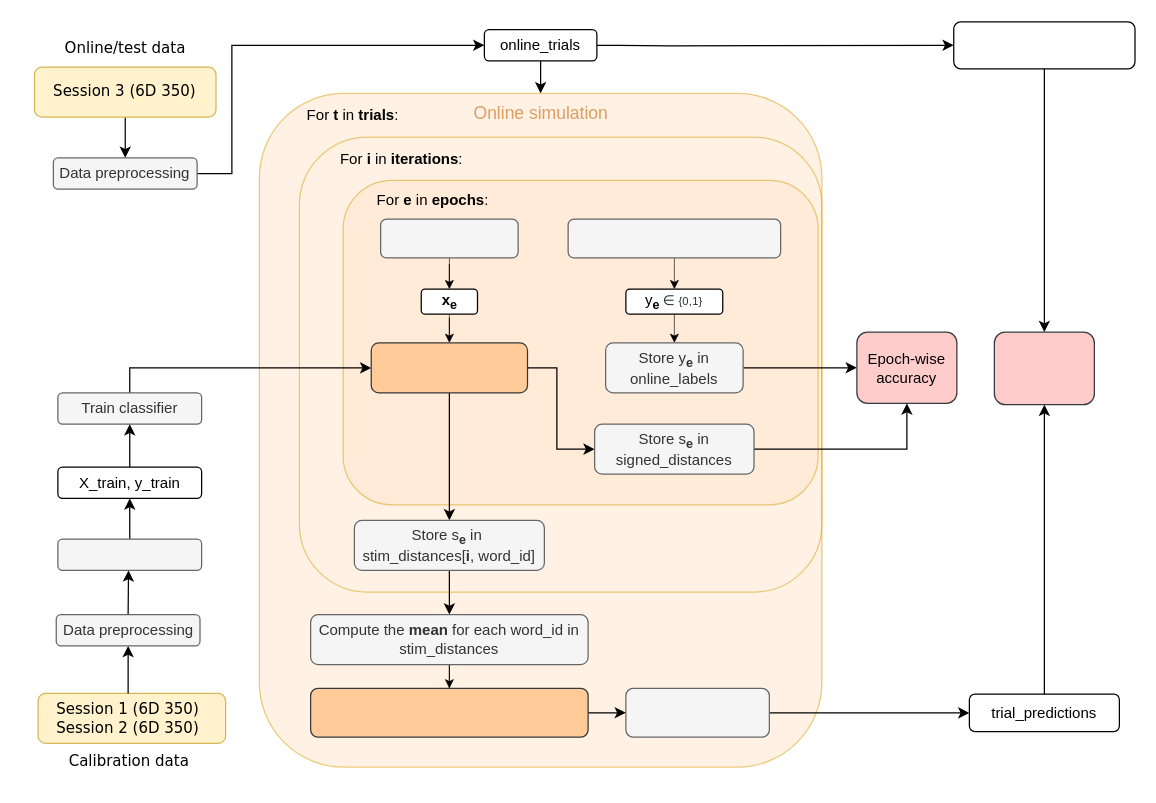
This 1156x803 diagram has some shape labels left out. Here are the shapes that lost their labels. From the top down, the box of each, then its label:
(952, 21, 1135, 69): online_trial_targets (true target word per trial)
(379, 218, 518, 258): Extract features
(567, 218, 781, 258): Obtain true label from markers
(370, 342, 528, 393): Compute s e : distance to decision boundary
(993, 331, 1094, 405): Trial-wise accuracy
(57, 538, 202, 570): Feature extraction
(309, 687, 588, 737): Select word w t with highest mean
(625, 687, 769, 737): Store w t in trial_predictions[ t ]
